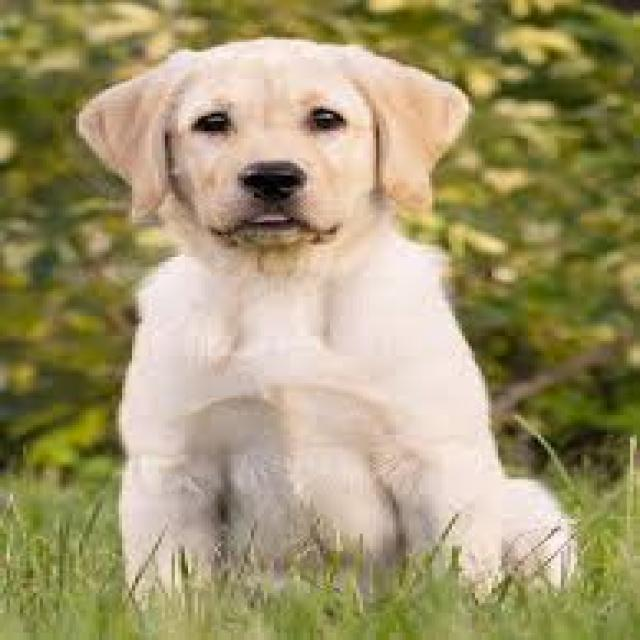Dog: (67, 33, 593, 600)
